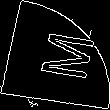M_W: (21, 27, 89, 83)
